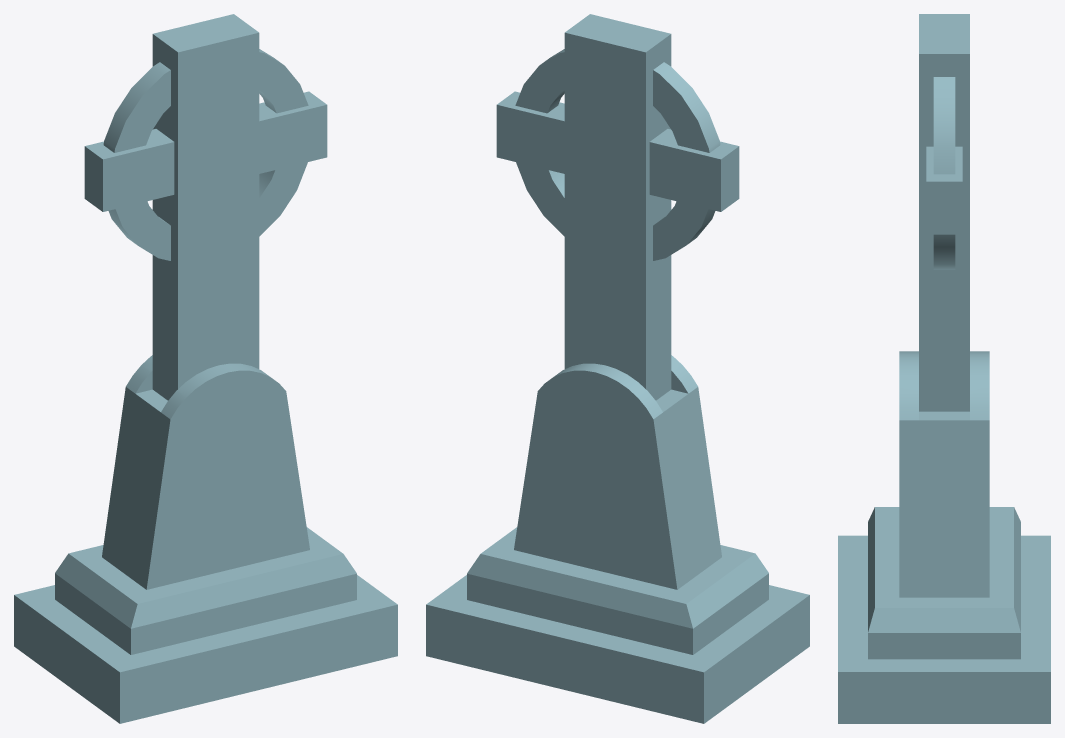
File: gravestoneCrossLarge.obj
The picture shows the model from 3 angles, left to right: view 1: azimuth 30°, elevation 25°; view 2: azimuth 150°, elevation 25°; view 3: azimuth 270°, elevation 25°; orthographic projection.
Parts seen in each view (by area): view 1: gravestoneCrossLarge; view 2: gravestoneCrossLarge; view 3: gravestoneCrossLarge.
Boxes of the visible parts, x1=… form: gravestoneCrossLarge: x1=14, y1=14, x2=397, y2=723; gravestoneCrossLarge: x1=426, y1=14, x2=809, y2=723; gravestoneCrossLarge: x1=838, y1=14, x2=1050, y2=723.
Bounding box in the file's own units: 0.4415 × 0.9383 × 0.2913.
